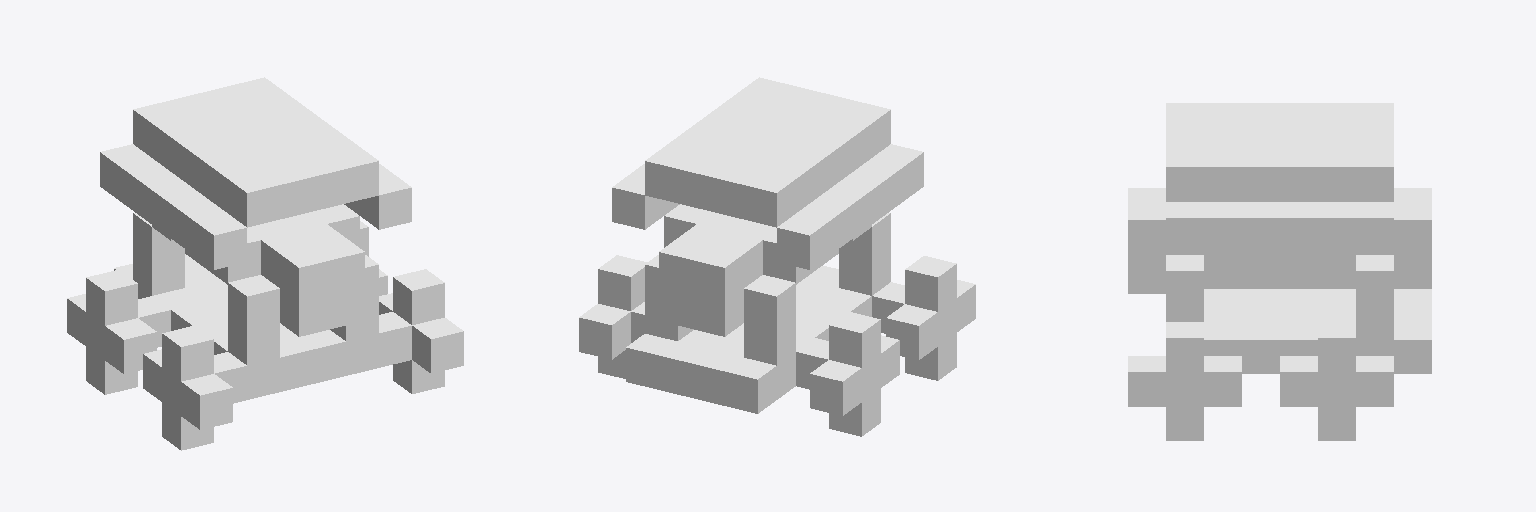
Rendered from green_ram.obj.
3 views of the same model, side by side, from view 1: azimuth 30°, elevation 25°; view 2: azimuth 150°, elevation 25°; view 3: azimuth 270°, elevation 25° (orthographic).
Visible parts, largest first — view 1: object 1; view 2: object 1; view 3: object 1.
Part boxes in pixels (x1,y1,x2,y2): object 1: (67, 77, 463, 450); object 1: (579, 77, 975, 436); object 1: (1128, 103, 1431, 440).
Size of the model in its own units: 0.8 by 0.7 by 0.8.